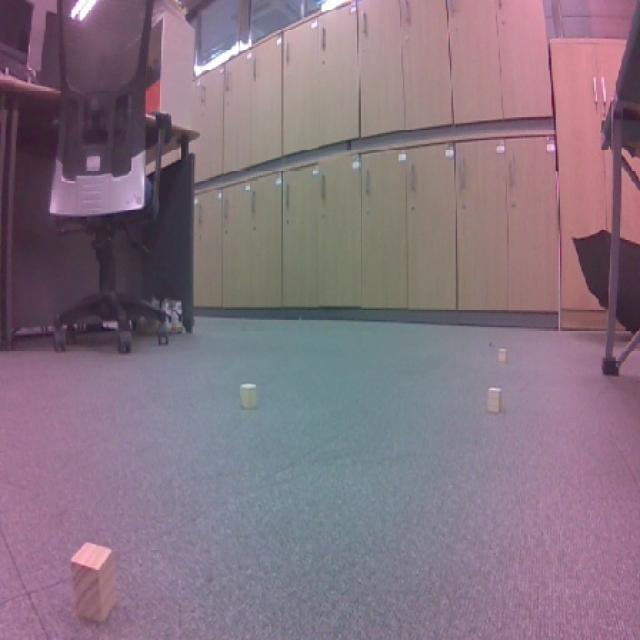obstacle: (54, 534, 138, 630)
